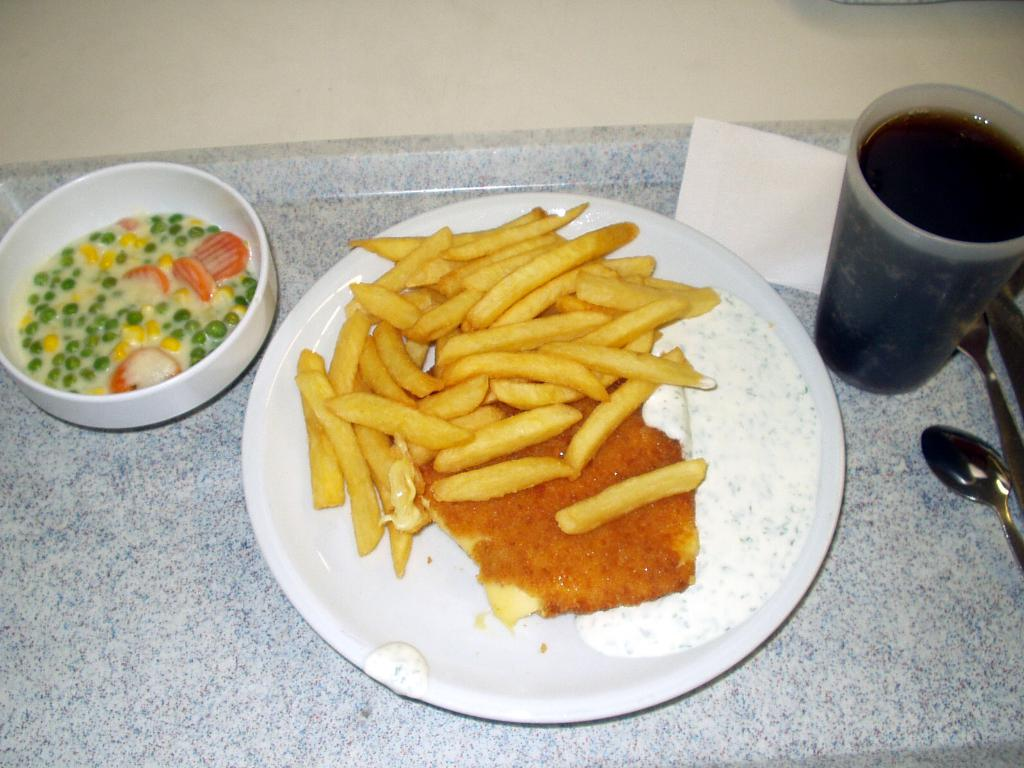French fries: (290, 188, 729, 582)
